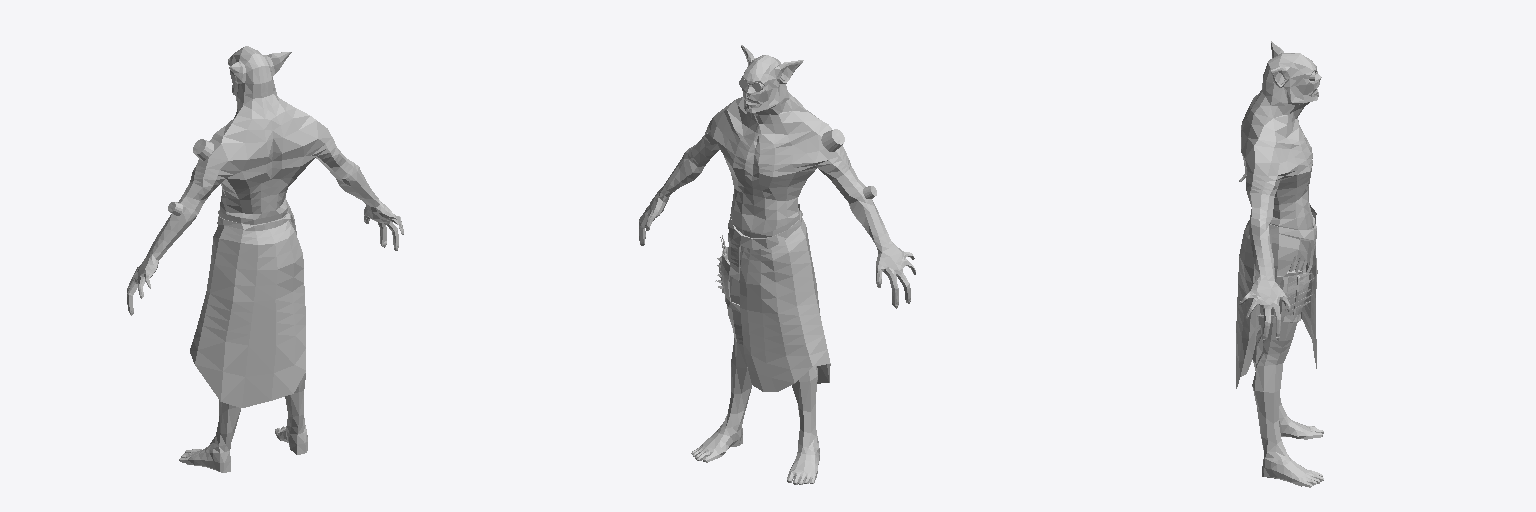
The model's file is Orc.obj.
The picture shows the model from 3 angles: view 1: azimuth 30°, elevation 25°; view 2: azimuth 150°, elevation 25°; view 3: azimuth 270°, elevation 25°; orthographic projection.
Visible parts, largest first — view 1: gogles; view 2: gogles; view 3: gogles.
Part boxes in pixels (x1,y1,x2,y2): gogles: (127, 46, 403, 472); gogles: (639, 45, 915, 484); gogles: (1236, 41, 1323, 487).
Size of the model in its own units: 117 by 167 by 32.94.